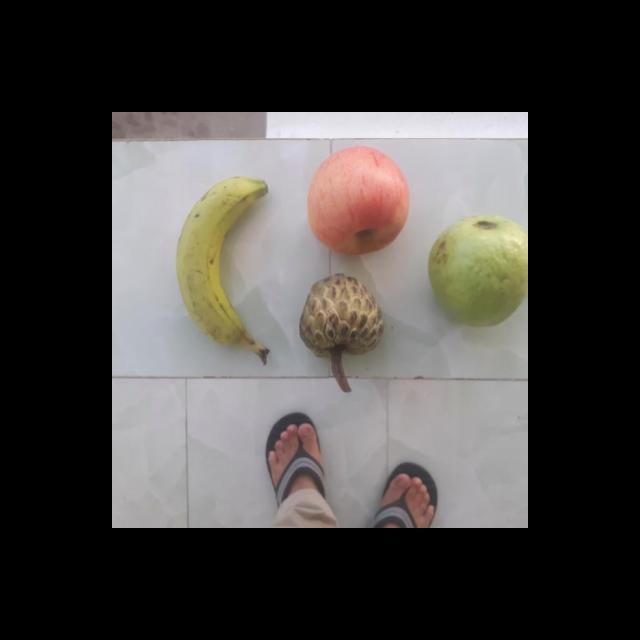Sakya fruit: (300, 272, 388, 362)
apple: (305, 146, 415, 255)
banana: (180, 178, 272, 348)
guava: (430, 214, 528, 326)
